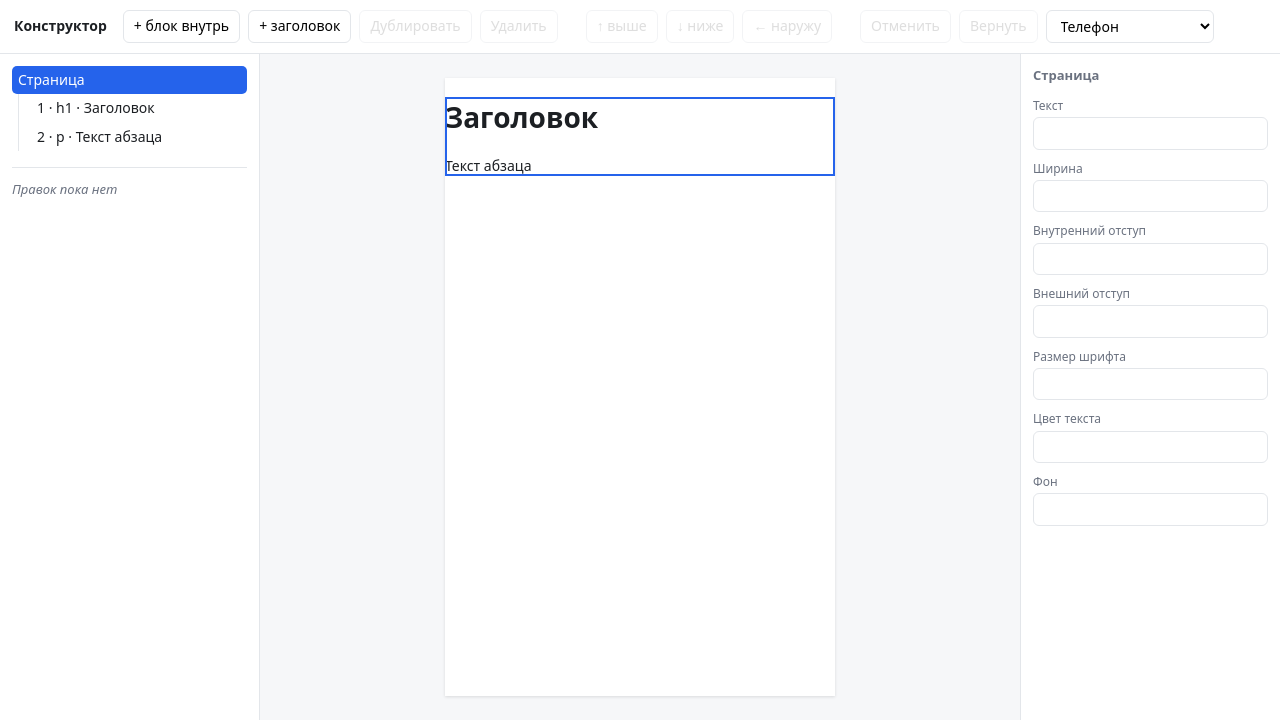
Test: редактор целиком › перенос меняет и холст, и номера в дереве
Click the text "Текст абзаца".
click(488, 166)  # box [445,156,532,175]
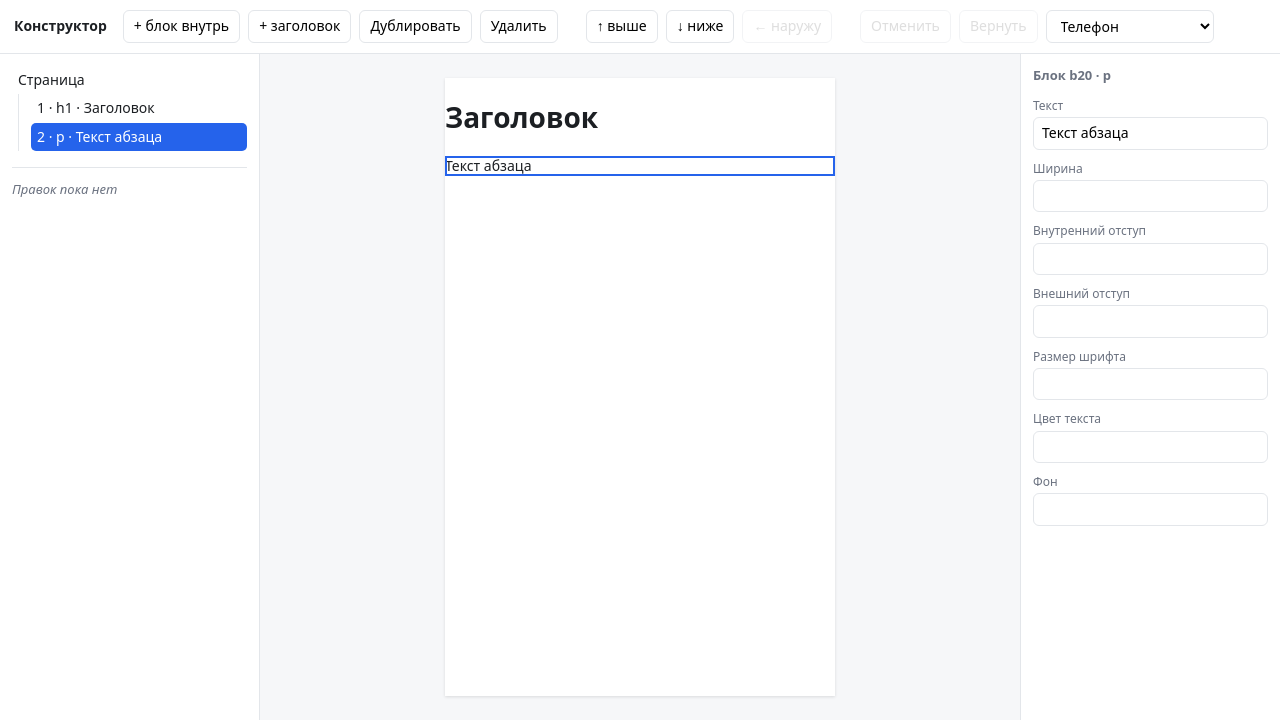
Click the button "↑ выше".
click(622, 26)  # box [586,10,658,43]
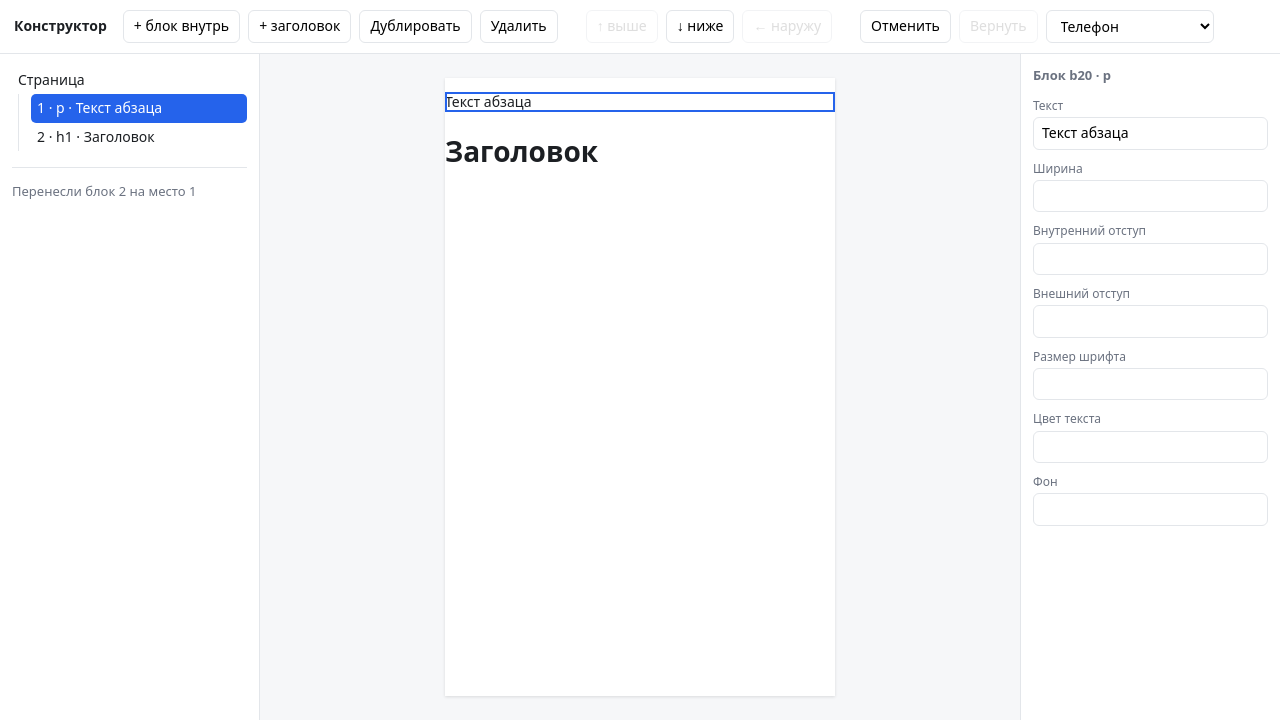
Now the button "1 · p · Текст абзаца" is shown, box [31,94,247,123]
